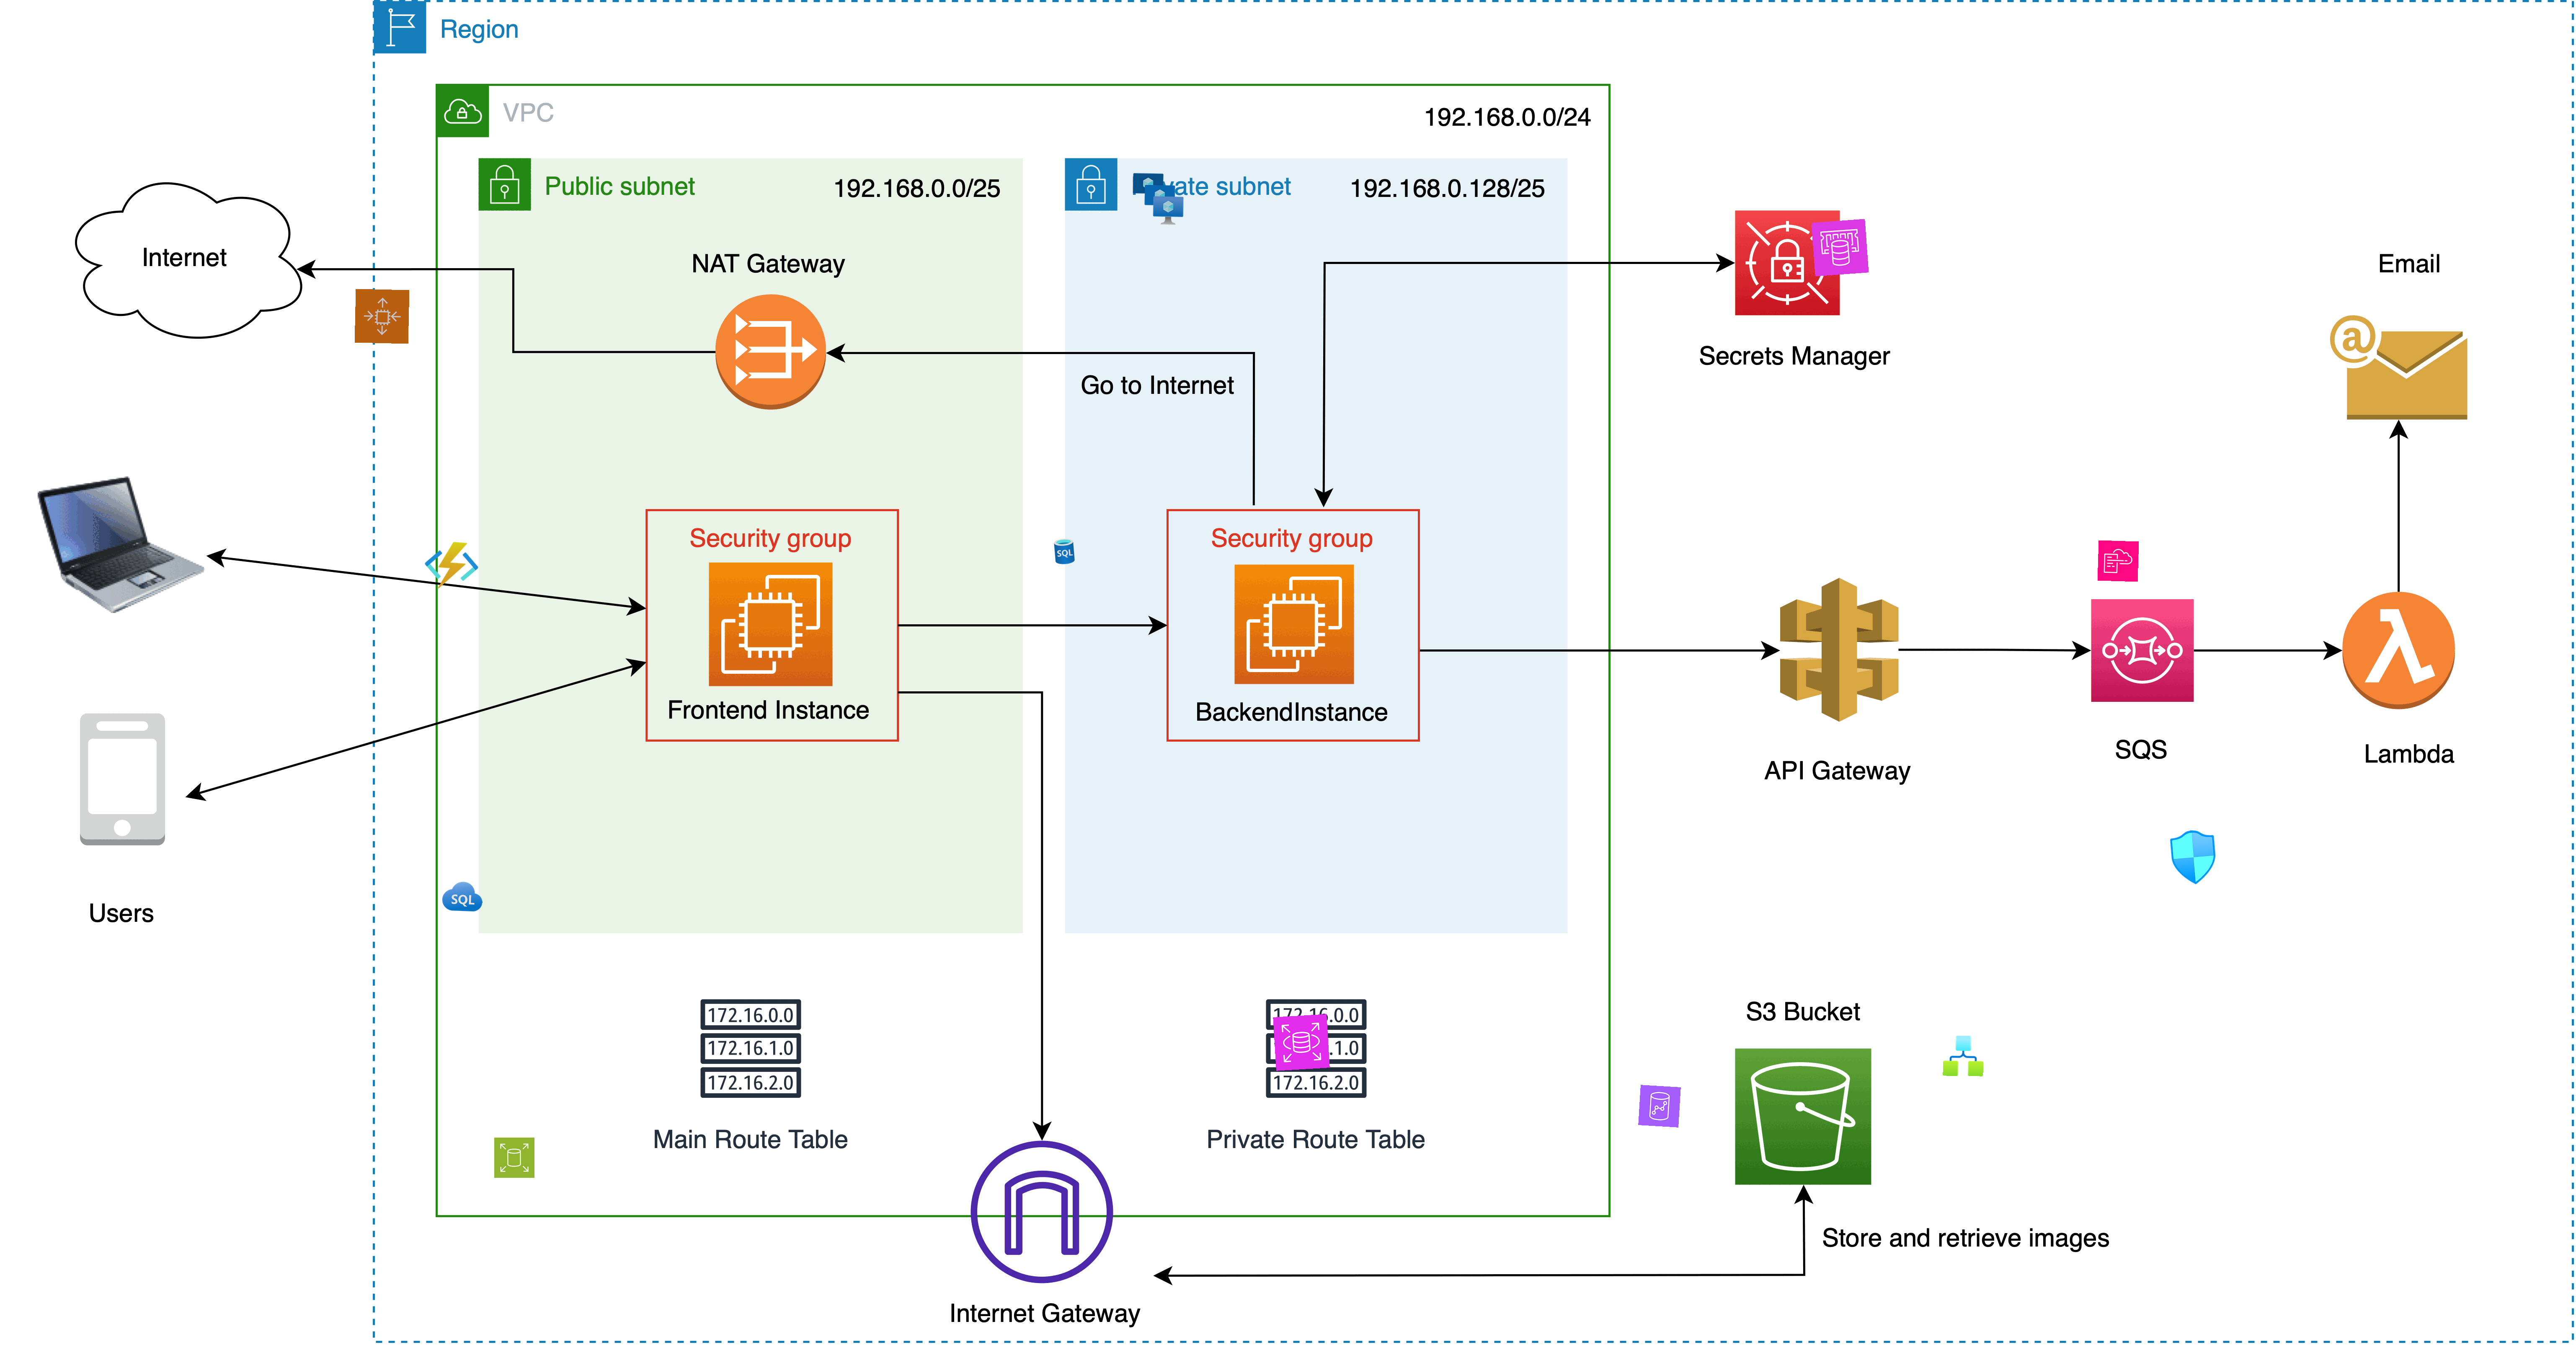aws_amazon_ec2_auto_scaling: (354, 288, 409, 344)
aws_amazon_elastic_block_store: (494, 1137, 535, 1178)
aws_amazon_elasticache: (1811, 218, 1869, 276)
aws_amazon_rds: (1273, 1014, 1331, 1071)
aws_amazon_redshift: (1639, 1084, 1682, 1127)
aws_cloudformation: (2097, 540, 2140, 581)
azure_function_apps: (423, 537, 480, 595)
azure_logic_apps: (1942, 1035, 1983, 1076)
azure_network_security_groups: (2164, 828, 2223, 886)
azure_sql: (441, 876, 484, 919)
azure_sql_database: (1049, 537, 1078, 566)
azure_vm_scale_sets: (1130, 170, 1186, 225)
